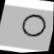no answer: (18, 10, 48, 41)
